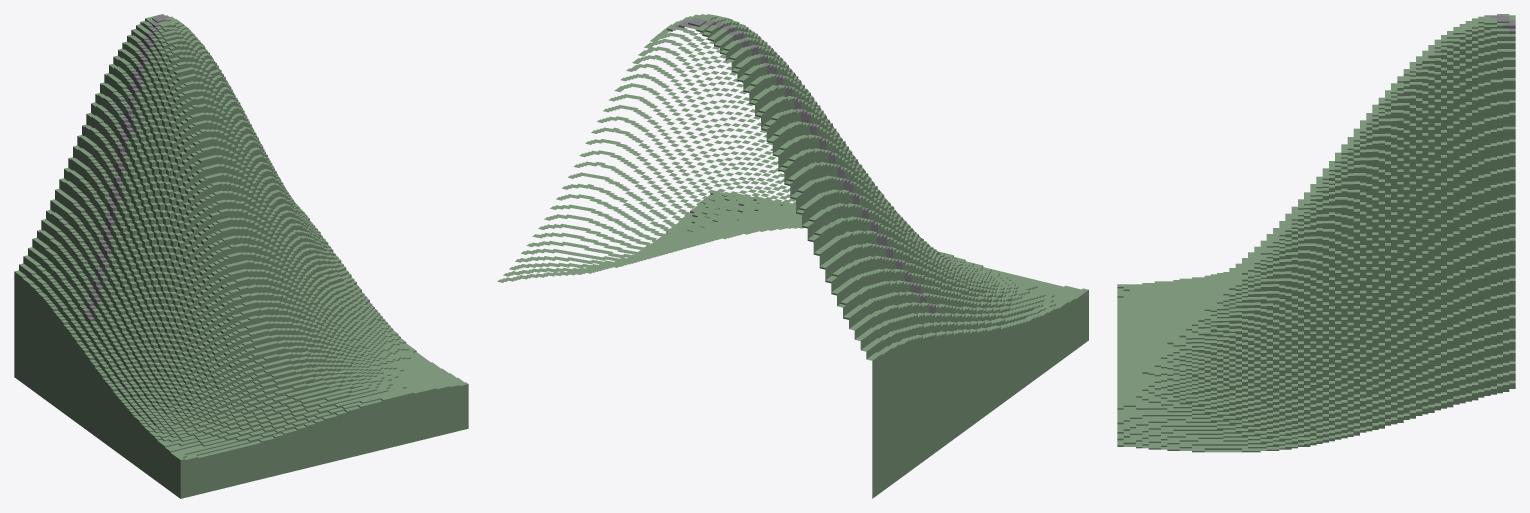
The model's file is chunk_r00064_c00000.glb.
3 views of the same model, side by side, from view 1: azimuth 30°, elevation 25°; view 2: azimuth 150°, elevation 25°; view 3: azimuth 270°, elevation 25° (orthographic). The views are drawn at different scales.
Visible parts, largest first — view 1: world; view 2: world; view 3: world.
Part boxes in pixels (box(x1,y1,x2,y2)): world: box(14, 14, 468, 498); world: box(497, 14, 1088, 498); world: box(1117, 14, 1515, 452).
Size of the model in its own units: 256 by 279 by 256.
